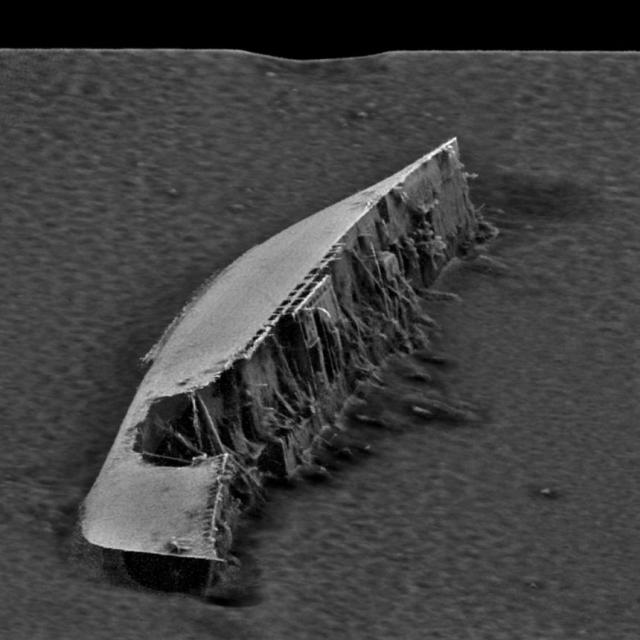ship: (81, 101, 494, 601)
